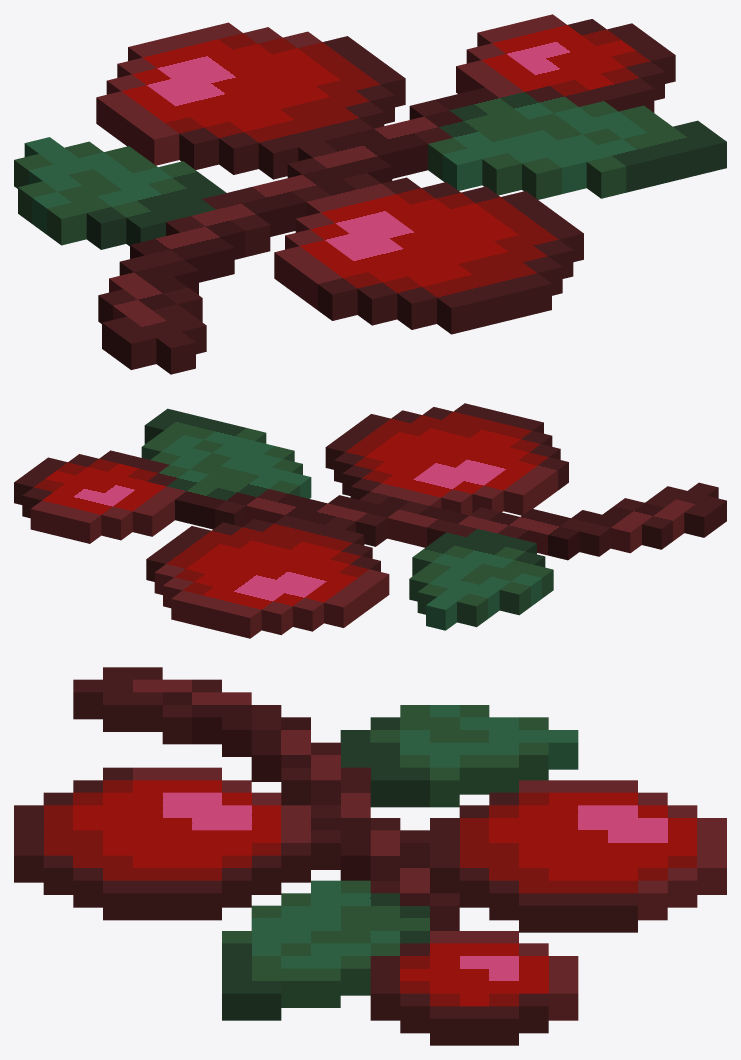
The model's file is SM_Sweet_Berries.obj.
3 views of the same model, one above another, from view 1: azimuth 30°, elevation 25°; view 2: azimuth 150°, elevation 25°; view 3: azimuth 270°, elevation 25° (orthographic). The views are drawn at different scales.
Parts seen in each view (by area): view 1: T_Sweet_Berries_0, T_Sweet_Berries_8, T_Sweet_Berries_18, T_Sweet_Berries_20, T_Sweet_Berries_14, T_Sweet_Berries_11, T_Sweet_Berries_28, T_Sweet_Berries_19, T_Sweet_Berries_25, T_Sweet_Berries_10, T_Sweet_Berries_29, T_Sweet_Berries_31 (+31 smaller); view 2: T_Sweet_Berries_0, T_Sweet_Berries_8, T_Sweet_Berries_18, T_Sweet_Berries_20, T_Sweet_Berries_14, T_Sweet_Berries_11, T_Sweet_Berries_19, T_Sweet_Berries_10, T_Sweet_Berries_1, T_Sweet_Berries_7, T_Sweet_Berries_25, T_Sweet_Berries_29 (+30 smaller); view 3: T_Sweet_Berries_0, T_Sweet_Berries_8, T_Sweet_Berries_18, T_Sweet_Berries_17, T_Sweet_Berries_10, T_Sweet_Berries_29, T_Sweet_Berries_25, T_Sweet_Berries_20, T_Sweet_Berries_41, T_Sweet_Berries_2, T_Sweet_Berries_32, T_Sweet_Berries_6 (+31 smaller).
Part boxes in pixels (left/top/right/bottom): T_Sweet_Berries_0: left=128, top=22, right=373, bottom=179; T_Sweet_Berries_8: left=477, top=14, right=654, bottom=112; T_Sweet_Berries_18: left=409, top=87, right=571, bottom=195; T_Sweet_Berries_20: left=287, top=158, right=501, bottom=328; T_Sweet_Berries_14: left=456, top=60, right=626, bottom=198; T_Sweet_Berries_11: left=466, top=43, right=651, bottom=192; T_Sweet_Berries_28: left=306, top=196, right=476, bottom=334; T_Sweet_Berries_19: left=298, top=116, right=452, bottom=178; T_Sweet_Berries_25: left=342, top=173, right=526, bottom=321; T_Sweet_Berries_10: left=65, top=141, right=234, bottom=280; T_Sweet_Berries_29: left=382, top=177, right=551, bottom=315; T_Sweet_Berries_31: left=295, top=212, right=436, bottom=329; T_Sweet_Berries_0: left=171, top=515, right=364, bottom=638; T_Sweet_Berries_8: left=30, top=450, right=169, bottom=543; T_Sweet_Berries_18: left=175, top=449, right=302, bottom=529; T_Sweet_Berries_20: left=356, top=413, right=523, bottom=546; T_Sweet_Berries_14: left=132, top=428, right=266, bottom=536; T_Sweet_Berries_11: left=101, top=423, right=245, bottom=540; T_Sweet_Berries_19: left=245, top=489, right=366, bottom=532; T_Sweet_Berries_10: left=417, top=508, right=550, bottom=614; T_Sweet_Berries_1: left=261, top=543, right=372, bottom=635; T_Sweet_Berries_7: left=426, top=538, right=536, bottom=630; T_Sweet_Berries_25: left=359, top=408, right=503, bottom=504; T_Sweet_Berries_29: left=350, top=403, right=483, bottom=499; T_Sweet_Berries_0: left=430, top=818, right=726, bottom=894; T_Sweet_Berries_8: left=370, top=956, right=578, bottom=1020; T_Sweet_Berries_18: left=281, top=893, right=459, bottom=930; T_Sweet_Berries_17: left=281, top=767, right=459, bottom=807; T_Sweet_Berries_10: left=251, top=742, right=548, bottom=781; T_Sweet_Berries_29: left=14, top=843, right=310, bottom=882; T_Sweet_Berries_25: left=14, top=830, right=340, bottom=869; T_Sweet_Berries_20: left=14, top=818, right=400, bottom=830; T_Sweet_Berries_41: left=103, top=880, right=221, bottom=920; T_Sweet_Berries_2: left=459, top=868, right=697, bottom=907; T_Sweet_Berries_32: left=43, top=855, right=281, bottom=894; T_Sweet_Berries_6: left=519, top=893, right=637, bottom=932.
Bounding box in the file's own units: 0.875 × 0.0312 × 0.75.
Materials: 1 (1 with a texture image).
